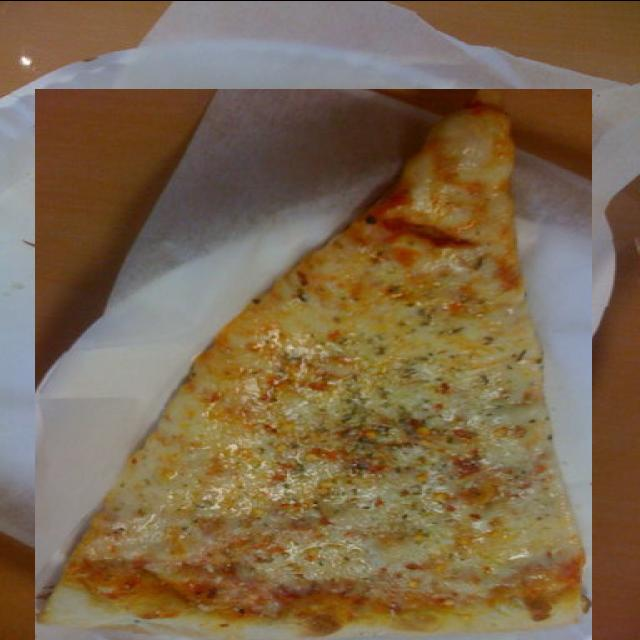pizza: (35, 88, 592, 640)
